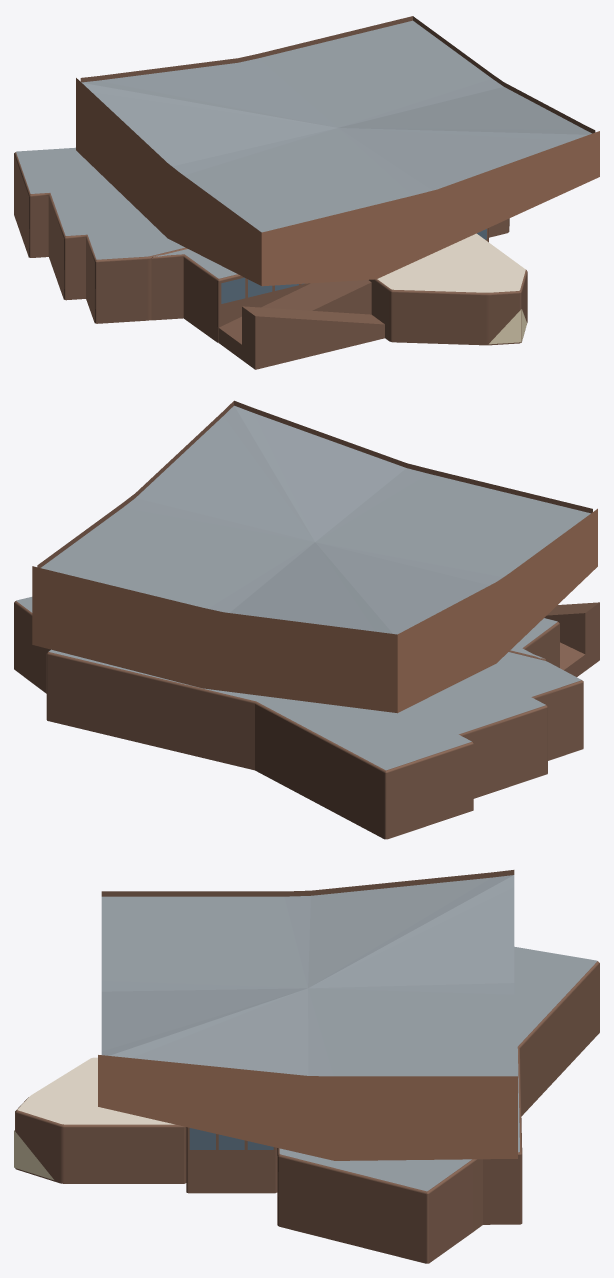
Rendered from dal-irving-convention-center.glb.
The picture shows the model from 3 angles, top to bottom: view 1: azimuth 30°, elevation 25°; view 2: azimuth 150°, elevation 25°; view 3: azimuth 270°, elevation 25°; orthographic projection. The views are drawn at different scales.
Visible parts, largest first — view 1: Irving Convention Center at Las Colinas; view 2: Irving Convention Center at Las Colinas; view 3: Irving Convention Center at Las Colinas.
Boxes of the visible parts, x1,y1,x2,y2 form: Irving Convention Center at Las Colinas: [14, 16, 599, 369]; Irving Convention Center at Las Colinas: [14, 400, 599, 839]; Irving Convention Center at Las Colinas: [14, 870, 599, 1263].
Bounding box in the file's own units: 129 × 41 × 122.
